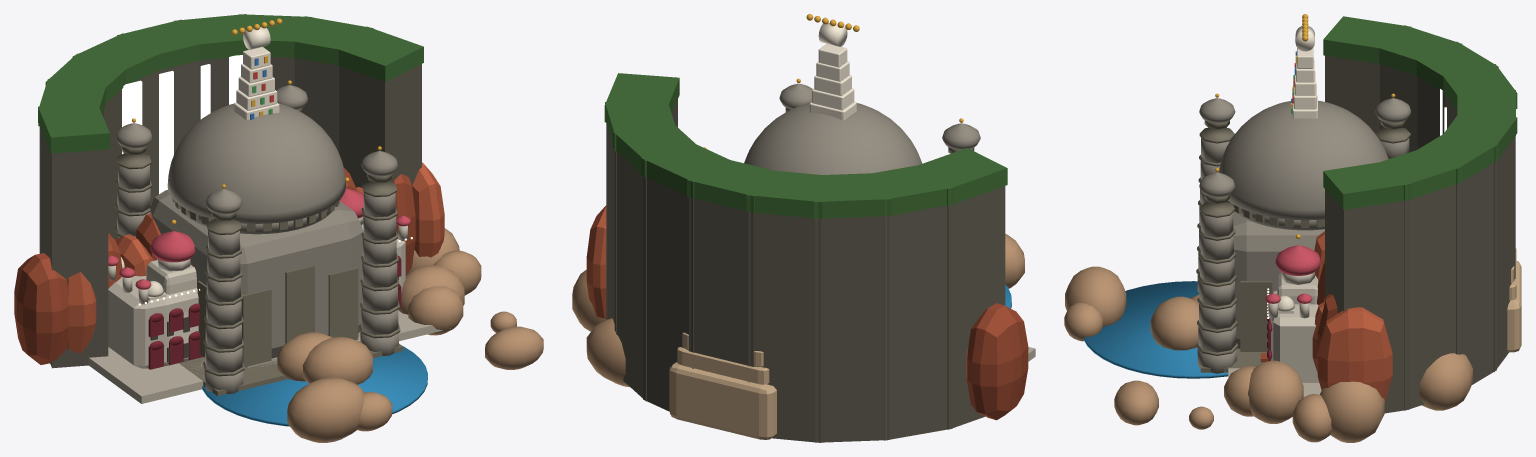
The model's file is props.glb.
The picture shows the model from 3 angles, left to right: view 1: azimuth 30°, elevation 25°; view 2: azimuth 150°, elevation 25°; view 3: azimuth 270°, elevation 25°; orthographic projection. The views are drawn at different scales.
Visible parts, largest first — view 1: lm_golgumbaz, lm_jog, lm_badami, lm_hampi, lm_palace, lm_coast, lm_vidhana; view 2: lm_jog, lm_hampi, lm_golgumbaz, lm_badami, lm_coast; view 3: lm_jog, lm_golgumbaz, lm_hampi, lm_badami, lm_palace, lm_coast.
Boxes of the visible parts, left/top/right/bottom form: lm_golgumbaz: left=115, top=80, right=402, bottom=395; lm_jog: left=38, top=14, right=423, bottom=368; lm_badami: left=14, top=162, right=444, bottom=426; lm_hampi: left=277, top=228, right=543, bottom=442; lm_palace: left=88, top=177, right=450, bottom=403; lm_coast: left=231, top=18, right=282, bottom=120; lm_vidhana: left=104, top=257, right=406, bottom=390; lm_jog: left=604, top=73, right=1007, bottom=442; lm_hampi: left=572, top=234, right=1024, bottom=439; lm_golgumbaz: left=704, top=78, right=980, bottom=174; lm_badami: left=586, top=205, right=1028, bottom=420; lm_coast: left=806, top=14, right=859, bottom=120; lm_jog: left=1323, top=16, right=1517, bottom=413; lm_golgumbaz: left=1196, top=93, right=1411, bottom=373; lm_hampi: left=1064, top=248, right=1521, bottom=442; lm_badami: left=1083, top=231, right=1392, bottom=403; lm_palace: left=1228, top=234, right=1321, bottom=397; lm_coast: left=1291, top=14, right=1317, bottom=118.
Bounding box in the file's own units: 70.19 × 51.13 × 65.51.
